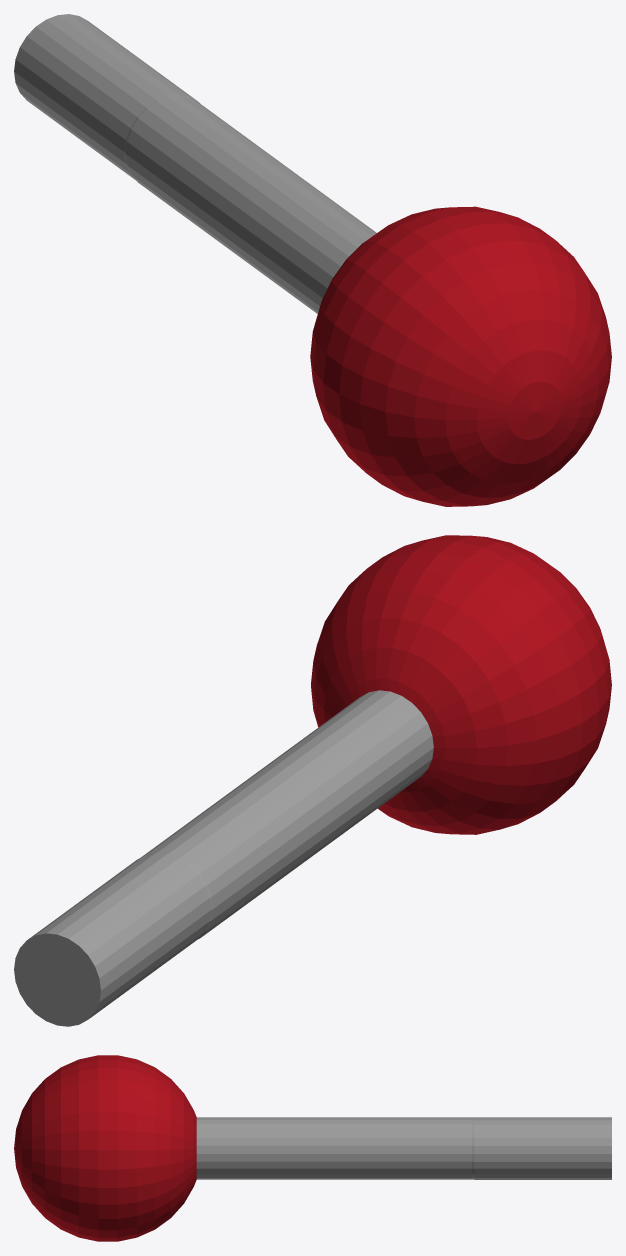
File: LeverColor.dae
The picture shows the model from 3 angles, top to bottom: view 1: azimuth 30°, elevation 25°; view 2: azimuth 150°, elevation 25°; view 3: azimuth 270°, elevation 25°; orthographic projection. The views are drawn at different scales.
Visible parts, largest first — view 1: WHEELTASK_004; view 2: WHEELTASK_004; view 3: WHEELTASK_004.
Boxes of the visible parts, box(x1,y1,x2,y2) form: WHEELTASK_004: box(14, 14, 611, 506); WHEELTASK_004: box(14, 535, 611, 1026); WHEELTASK_004: box(14, 1055, 611, 1241).
Bounding box in the file's own units: 7.58 × 24.22 × 7.54.
